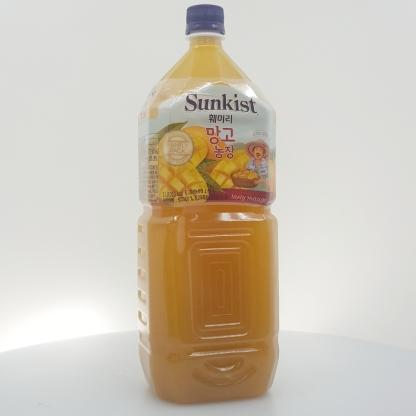---------2L: (137, 4, 279, 403)
